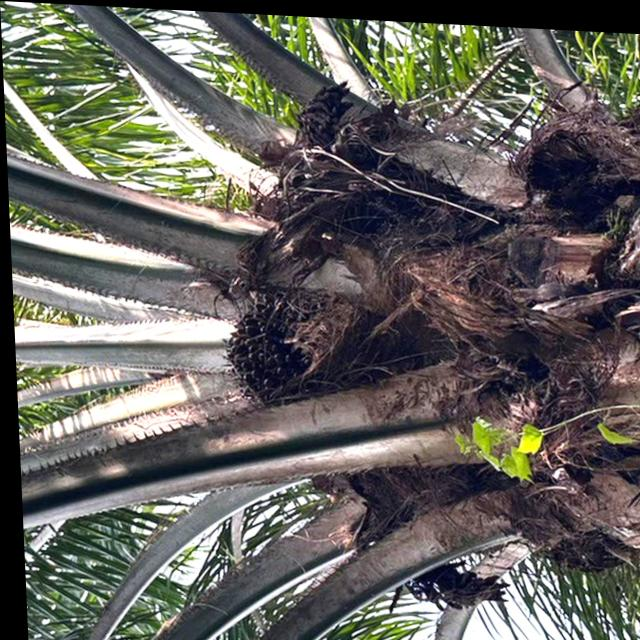almost: (210, 272, 413, 424)
